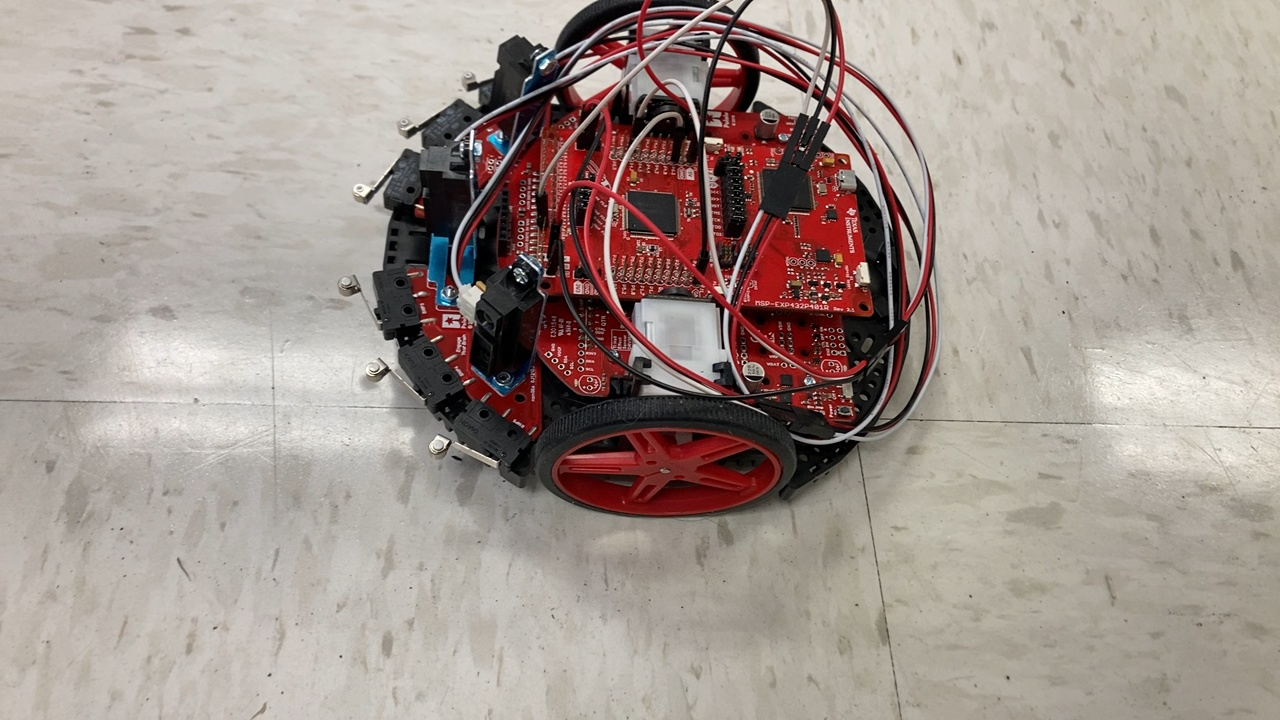robot: (337, 1, 950, 530)
